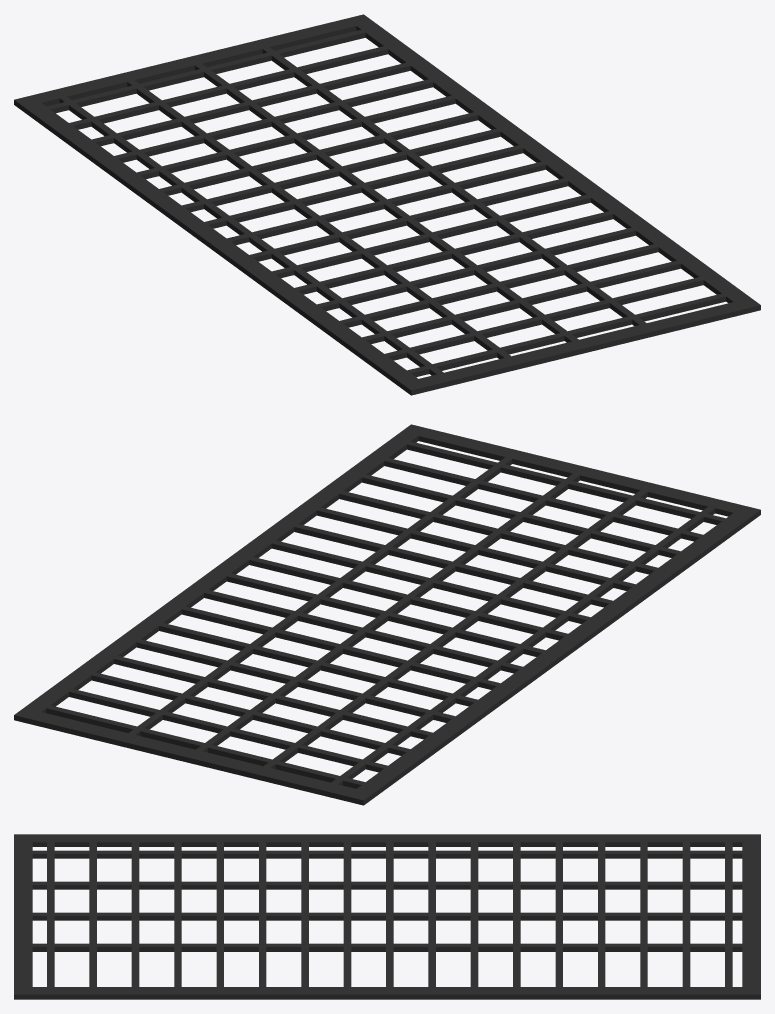
The model's file is AWS_Oven_Prop.fbx.
3 renders of one model, top to bottom at view 1: azimuth 30°, elevation 25°; view 2: azimuth 150°, elevation 25°; view 3: azimuth 270°, elevation 25°, orthographic. The views are drawn at different scales.
Visible parts, largest first — view 1: AWS_Oven_Prop; view 2: AWS_Oven_Prop; view 3: AWS_Oven_Prop.
Part boxes in pixels (x1=…): AWS_Oven_Prop: x1=14, y1=14, x2=760, y2=395; AWS_Oven_Prop: x1=14, y1=424, x2=760, y2=805; AWS_Oven_Prop: x1=14, y1=834, x2=760, y2=999.
Bounding box in the file's own units: 71.71 × 1.01 × 141.
